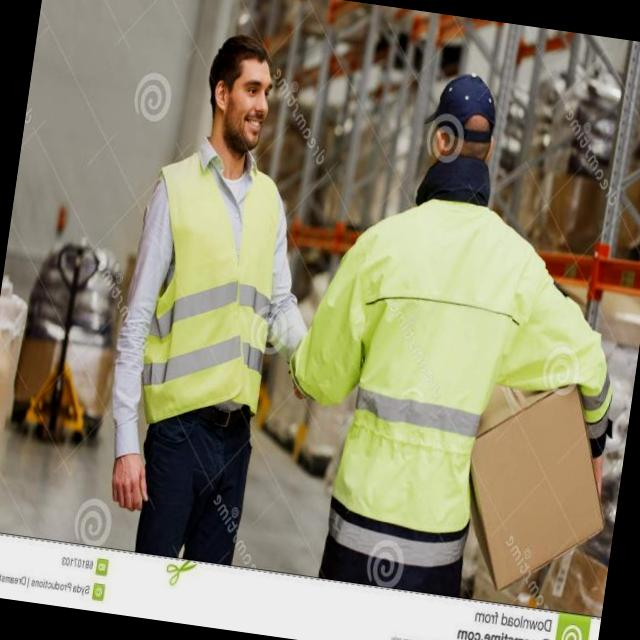vest: (120, 136, 302, 434)
